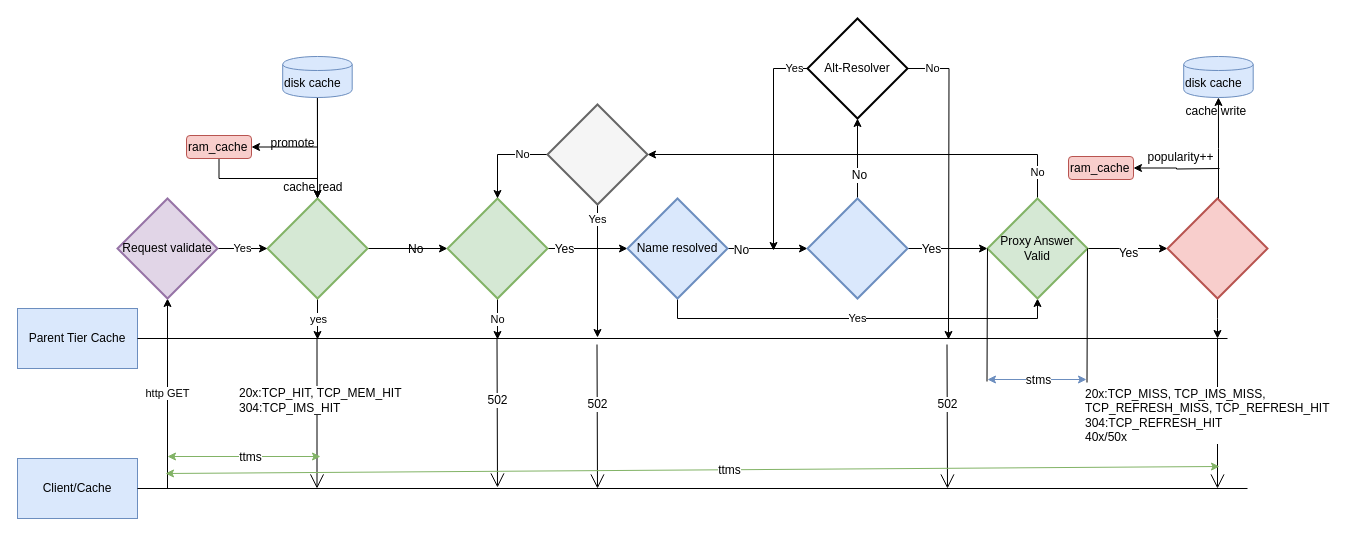
The diagram is 1348 pixels wide and 536 high, and some of its shapes have lost their labels. The shapes that lost their labels are listed below. From the top down, each one's centre as x and y in pixels, then its label:
At point (597, 154): "total connect attempts exceeded".
At point (317, 248): "cached/fresh".
At point (497, 248): "Parent_selected".
At point (857, 248): "DNS answered".
At point (1217, 248): "cache write/update".
